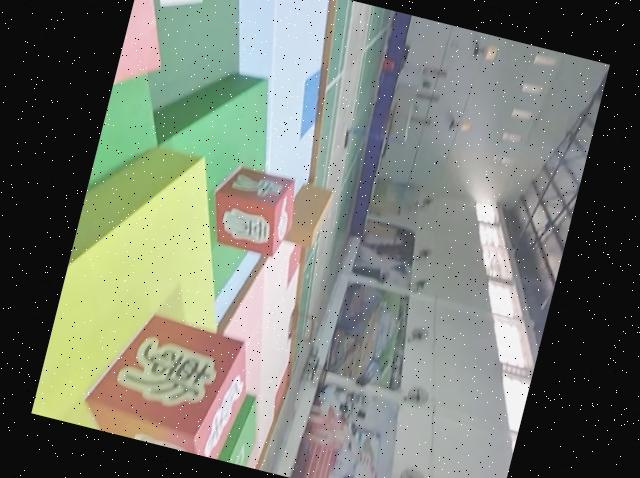R2 Fake: (77, 303, 257, 462), (204, 161, 303, 260)
